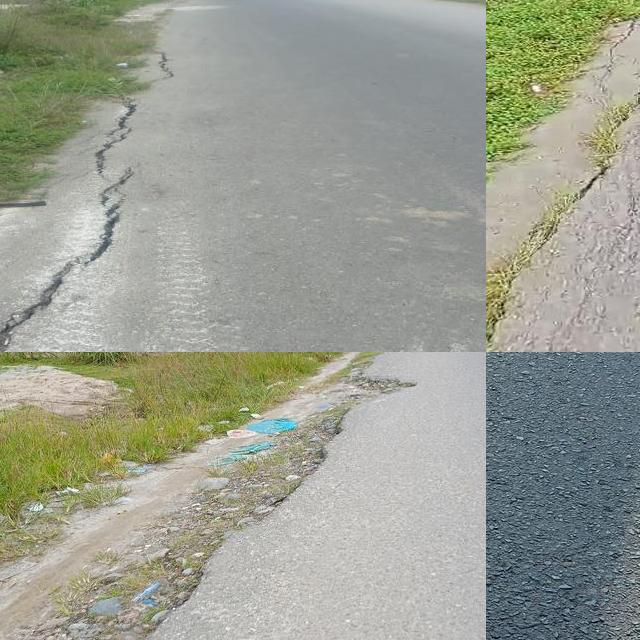Memanjang: (0, 229, 123, 352)
Pinggir: (114, 360, 432, 640), (0, 13, 207, 206)
